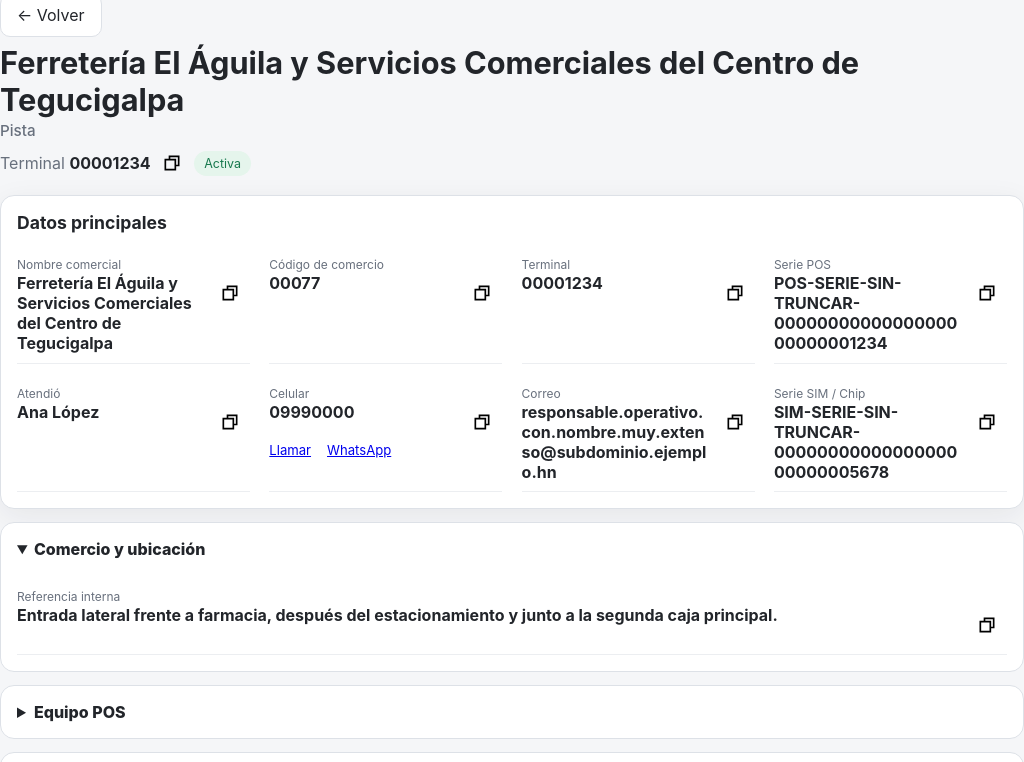
Test: ficha offline › abre el registro completo desde IndexedDB sin consultar la API
This screenshot has width=1024, height=762.
Expected: the heading "Ferretería El Águila y Servicios Comerciales del Centro de Tegucigalpa" is shown, [0,44,859,118]
Expected: the text "Pista" is shown, [0,121,36,140]
Click the button named "Copiar Correo" at (735, 422), box [715,402,755,442]
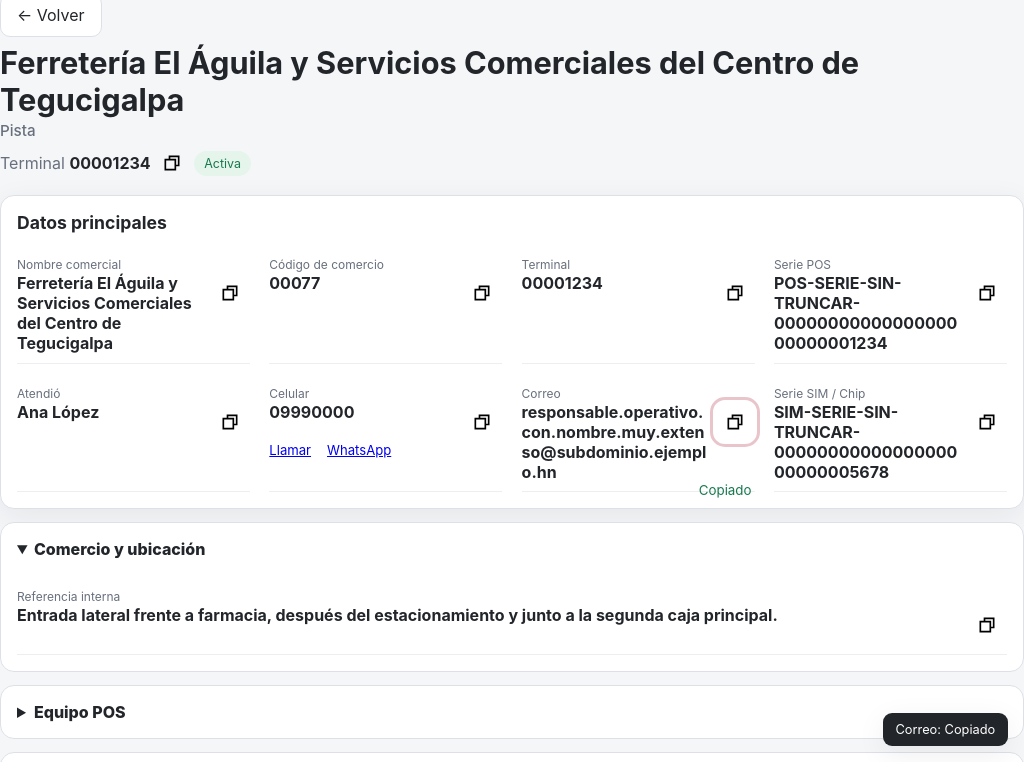
Click the button named "Copiar Terminal" next to "Activa" at (172, 163), box [156,147,188,179]
(page scrolled)
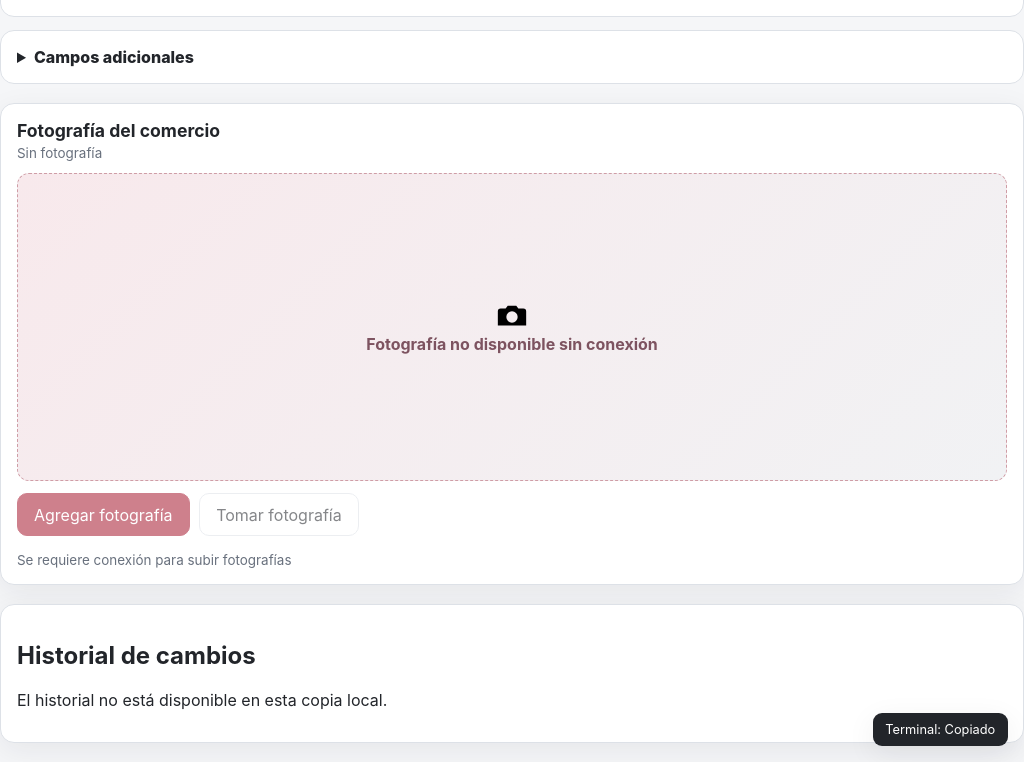
Expected: the heading "Campos adicionales" is shown, [34,47,194,67]
Now the message reads "Terminal: Copiado", box [885,722,995,737]
